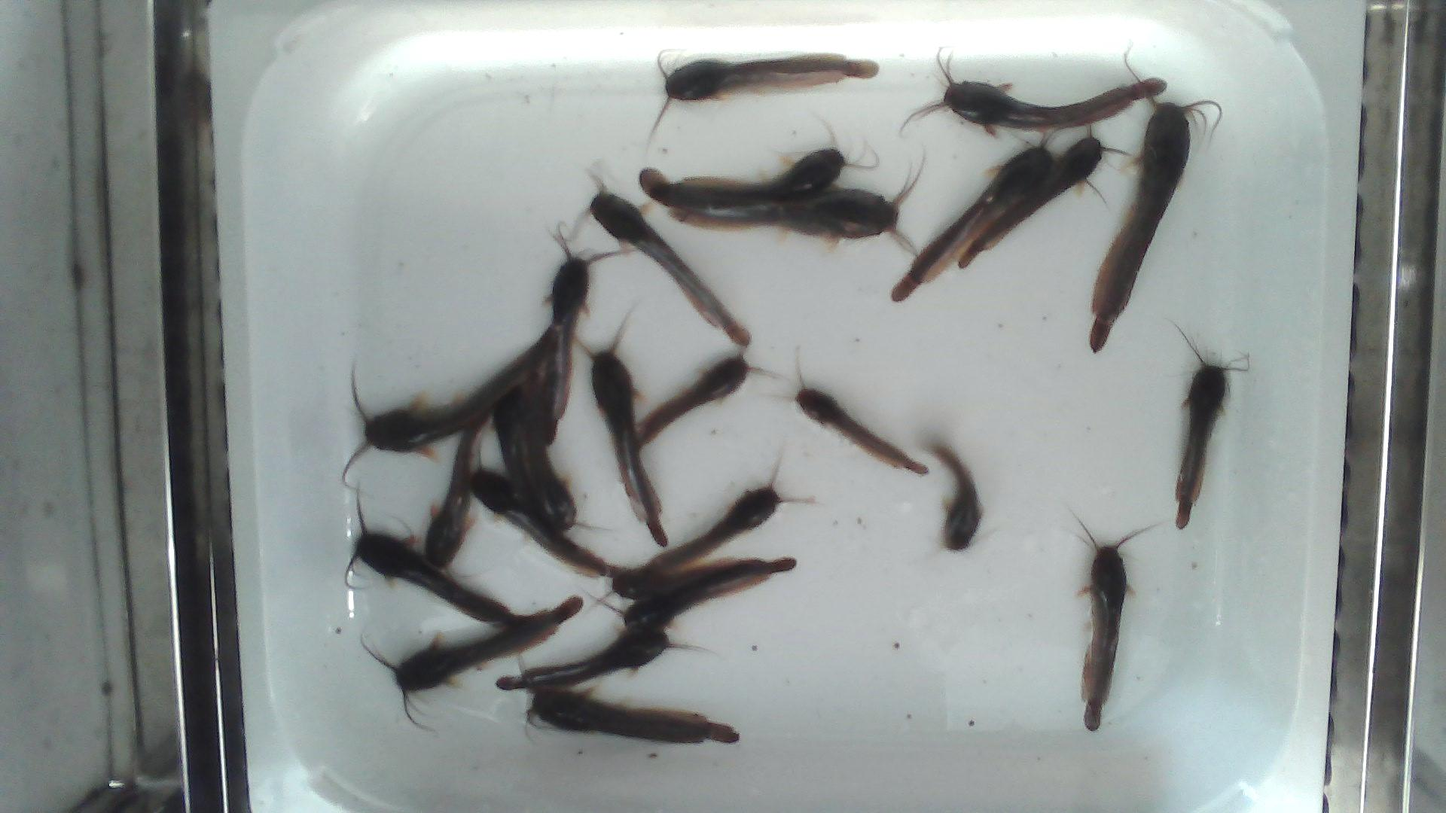lele: (342, 323, 551, 486), (635, 144, 928, 253), (363, 595, 586, 731), (343, 483, 548, 628), (587, 182, 749, 346), (888, 147, 1052, 304), (1090, 103, 1190, 351), (961, 120, 1117, 267), (638, 445, 811, 575), (906, 48, 1166, 134), (576, 308, 667, 546), (471, 447, 628, 580), (651, 49, 880, 136), (543, 223, 629, 447), (673, 118, 880, 199), (593, 558, 800, 637), (795, 361, 927, 474), (1081, 521, 1150, 730), (523, 362, 603, 535), (497, 627, 702, 693), (529, 687, 738, 743), (424, 408, 494, 571), (639, 355, 749, 446), (1175, 356, 1227, 528), (602, 556, 764, 598), (492, 386, 538, 514), (929, 440, 981, 550)
